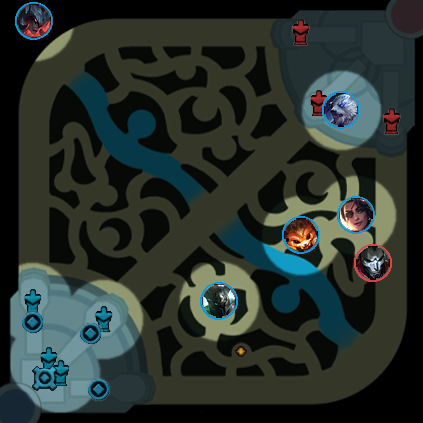Aatrox: (15, 2, 53, 40)
Gnar: (282, 216, 320, 254)
Jhin: (354, 244, 392, 282)
Mordekaiser: (200, 282, 238, 320)
Samira: (337, 196, 375, 234)
Volibear: (322, 91, 360, 129)
